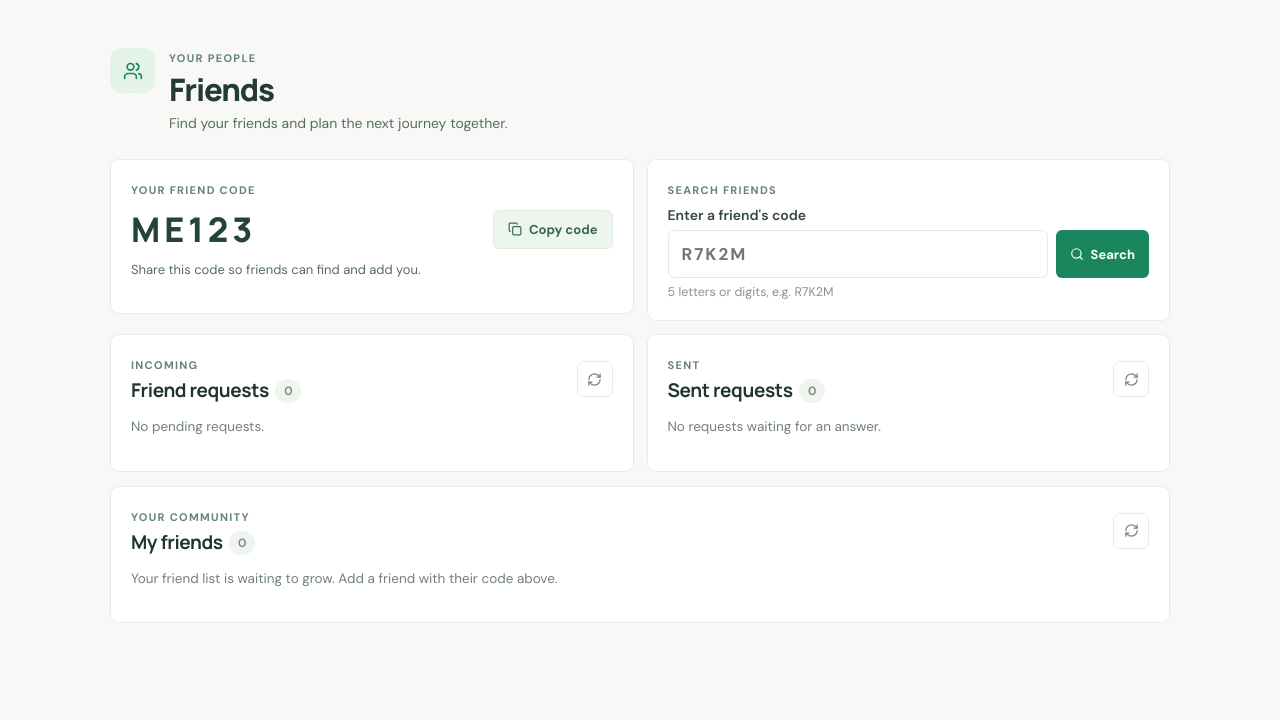
Scenario: FriendsPage › shows the friend code and copies it
Expected: the text "ME123" is shown, [131,206,256,252]
Click the button "Copy code". click: (553, 229)
box: [493,210,612,249]
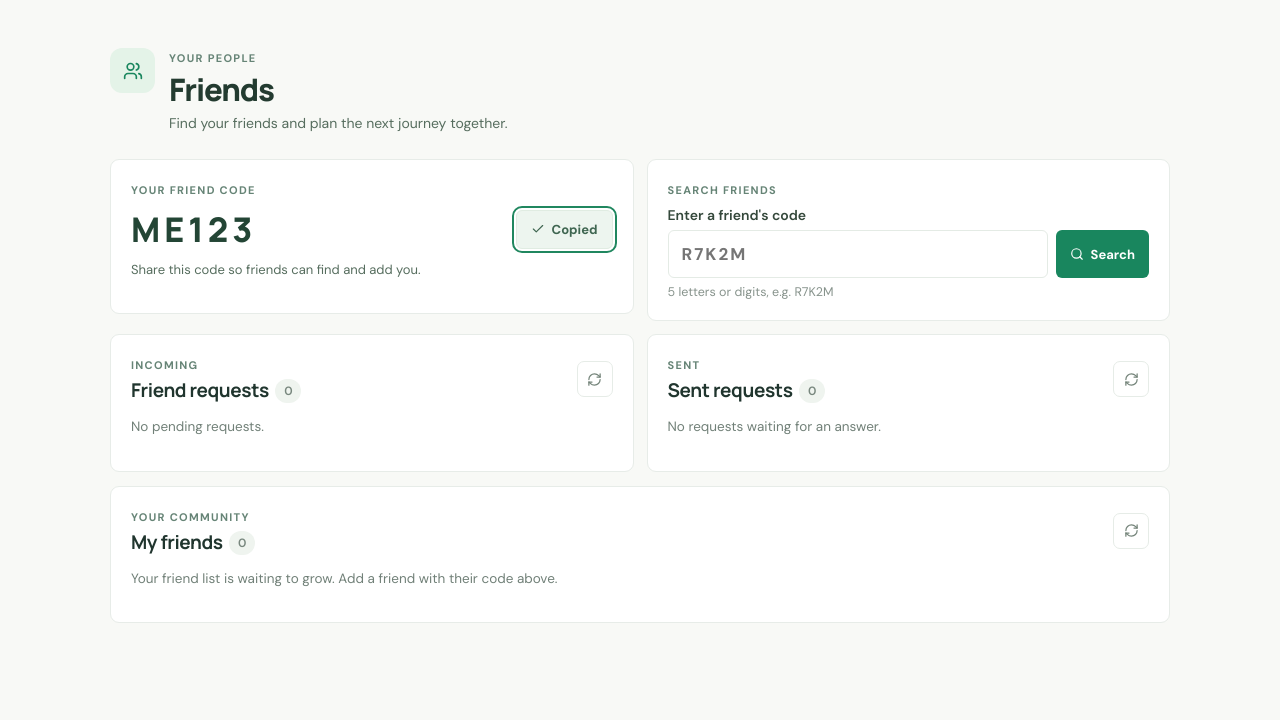
Result: the button "Copied" is shown at [516,210,612,249]
